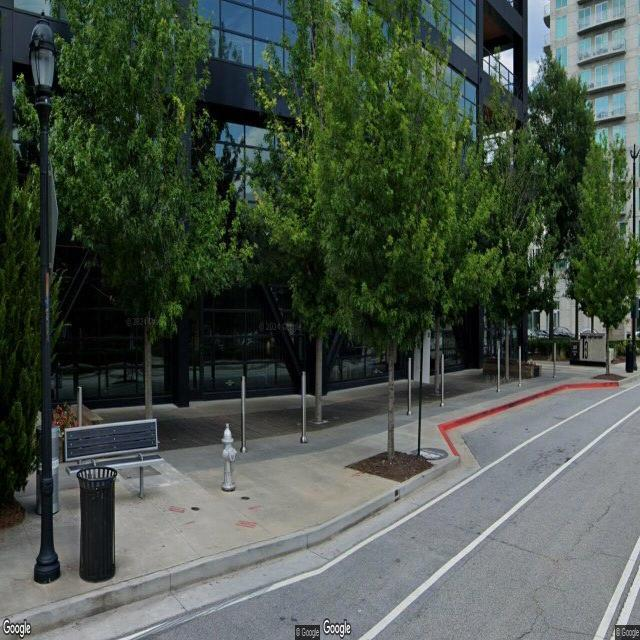seating: (63, 416, 165, 501)
trash_can: (76, 465, 117, 582), (36, 422, 60, 518), (624, 343, 634, 372)
